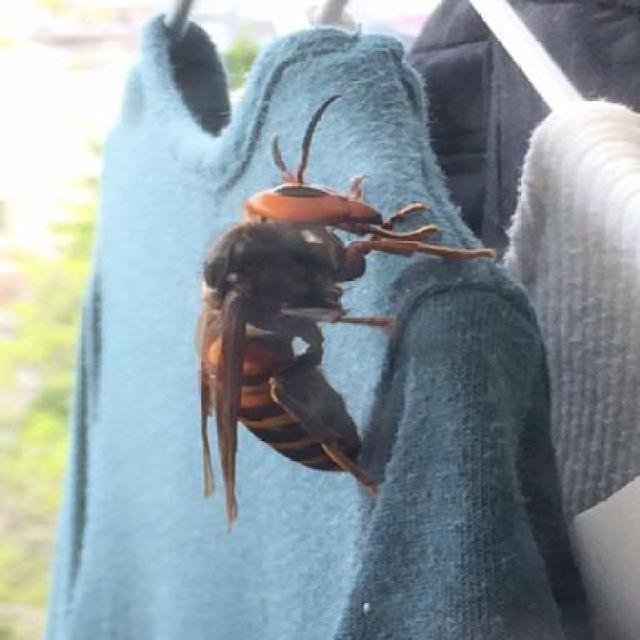Wasp: (186, 90, 499, 519)
